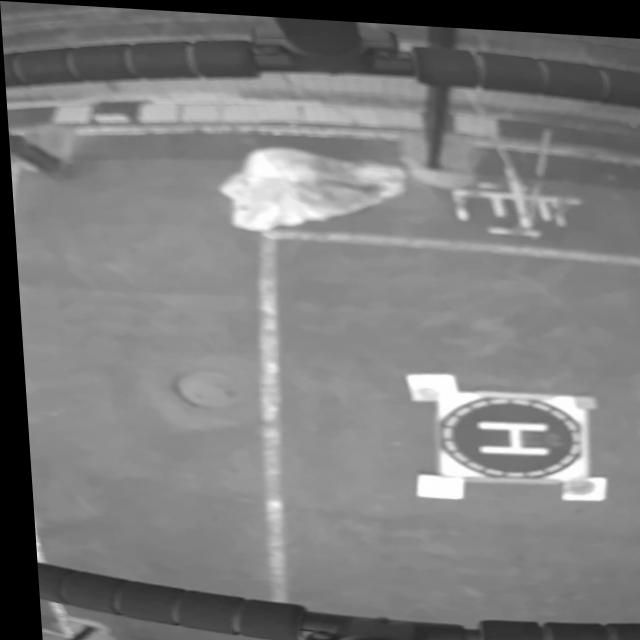Helipad: (471, 414, 547, 449)
